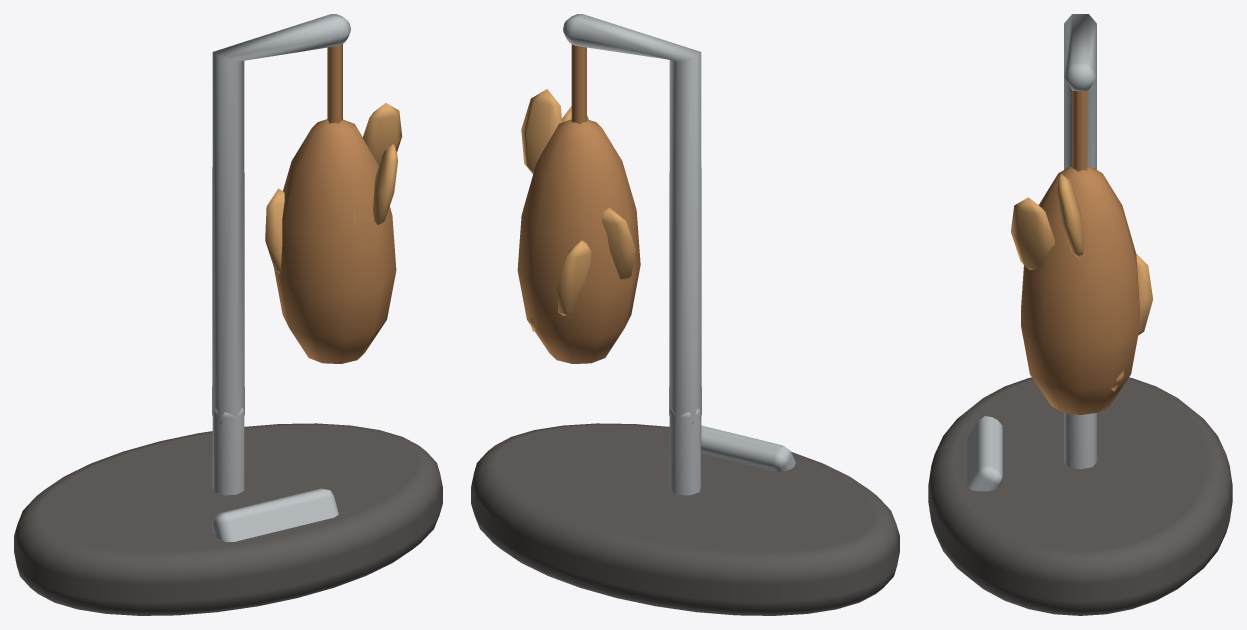
Rendered from bagworm_model.glb.
3 views of the same model, side by side, from view 1: azimuth 30°, elevation 25°; view 2: azimuth 150°, elevation 25°; view 3: azimuth 270°, elevation 25° (orthographic).
Visible parts, largest first — view 1: bagworm_model_mesh; view 2: bagworm_model_mesh; view 3: bagworm_model_mesh.
Boxes of the visible parts, x1,y1,x2,y2 form: bagworm_model_mesh: [14, 14, 442, 615]; bagworm_model_mesh: [471, 14, 899, 615]; bagworm_model_mesh: [928, 14, 1232, 615].
Size of the model in its own units: 0.34 by 0.4104 by 0.22.
